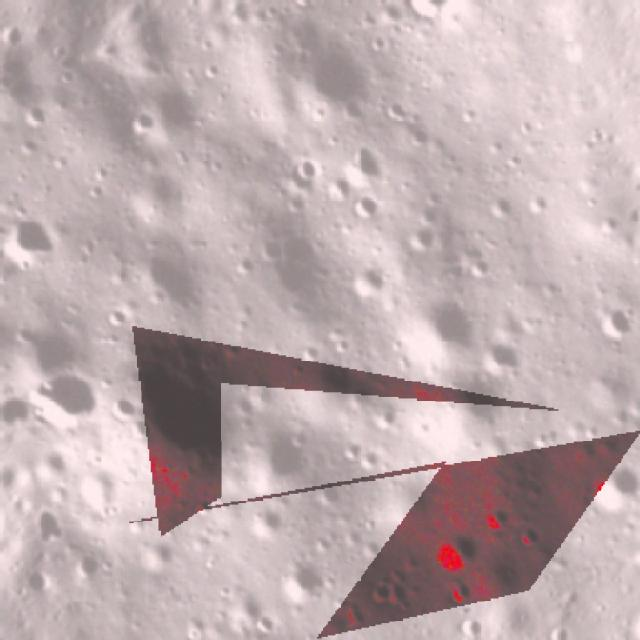crater: (115, 329, 252, 480), (278, 33, 374, 119), (127, 238, 218, 322), (406, 283, 489, 363), (433, 363, 515, 439), (28, 358, 108, 433), (243, 418, 314, 488), (472, 318, 540, 391), (0, 204, 66, 278), (575, 285, 640, 350), (580, 453, 640, 522), (271, 546, 334, 606), (424, 522, 484, 578), (338, 130, 392, 190), (132, 530, 188, 582), (62, 539, 110, 593), (6, 93, 63, 138), (282, 144, 328, 184), (398, 0, 460, 25), (40, 497, 72, 545), (241, 604, 283, 640), (125, 102, 163, 141), (8, 388, 37, 432), (346, 186, 382, 219), (18, 426, 32, 459), (199, 634, 250, 640)
